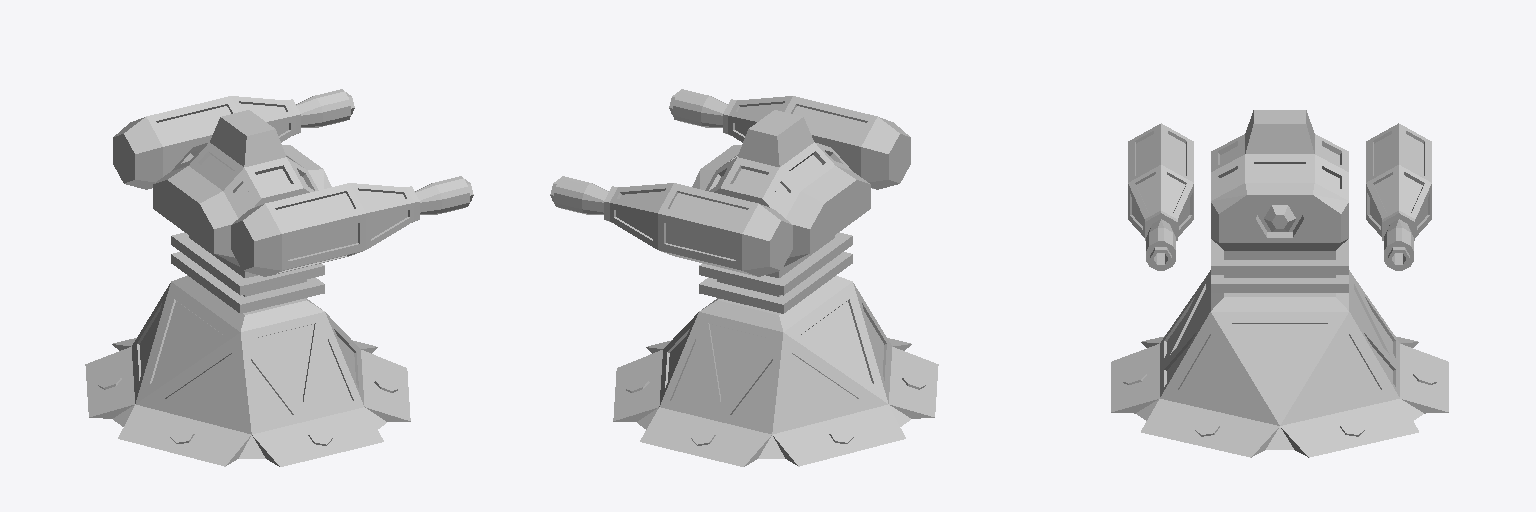
The model's file is Turret10.obj.
3 views of the same model, side by side, from view 1: azimuth 30°, elevation 25°; view 2: azimuth 150°, elevation 25°; view 3: azimuth 270°, elevation 25° (orthographic).
Parts seen in each view (by area): view 1: Mesh1_FrontColor_0; view 2: Mesh1_FrontColor_0; view 3: Mesh1_FrontColor_0.
Boxes of the visible parts, x1=… form: Mesh1_FrontColor_0: x1=85, y1=89, x2=473, y2=466; Mesh1_FrontColor_0: x1=550, y1=89, x2=938, y2=466; Mesh1_FrontColor_0: x1=1111, y1=110, x2=1448, y2=457.
Bounding box in the file's own units: 1 × 0.847 × 0.9599.